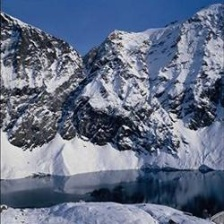neutral: (8, 8, 224, 208)
